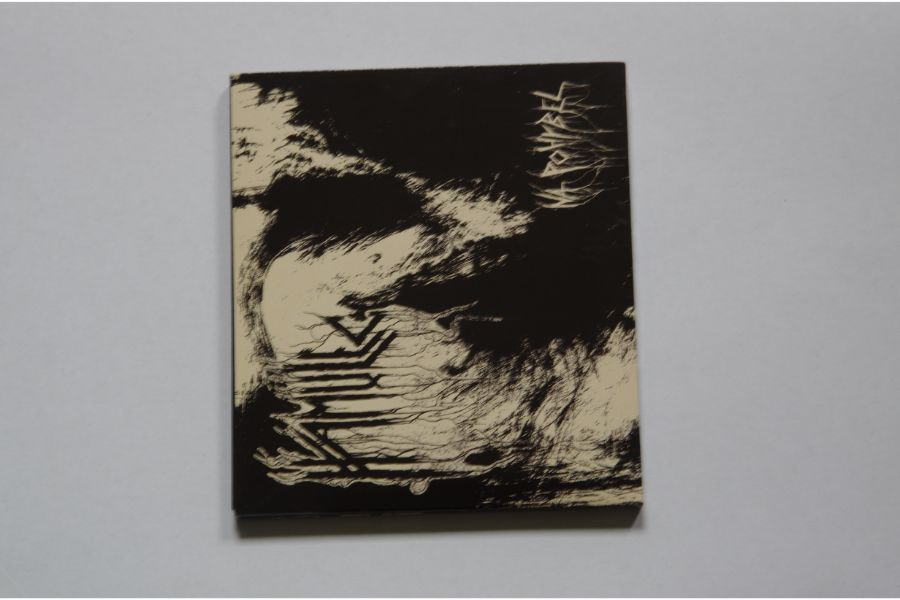album: (227, 58, 645, 519)
